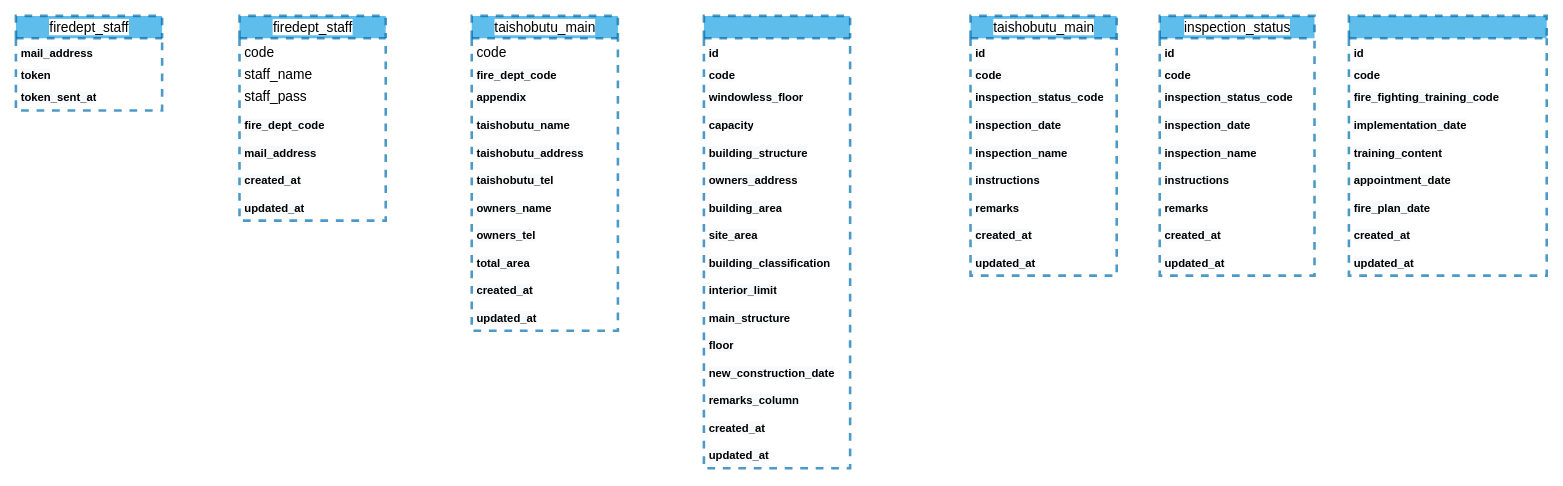
The diagram is 1563 pixels wide and 486 high, and some of its shapes have lost their labels. The shapes that lost their labels are listed below. From the top down, each one's box as (x1, y1, x2, y2) in pixels, then its label:
(1347, 14, 1548, 276): fire_safety_manager
(702, 14, 851, 469): taishobutu_datail
